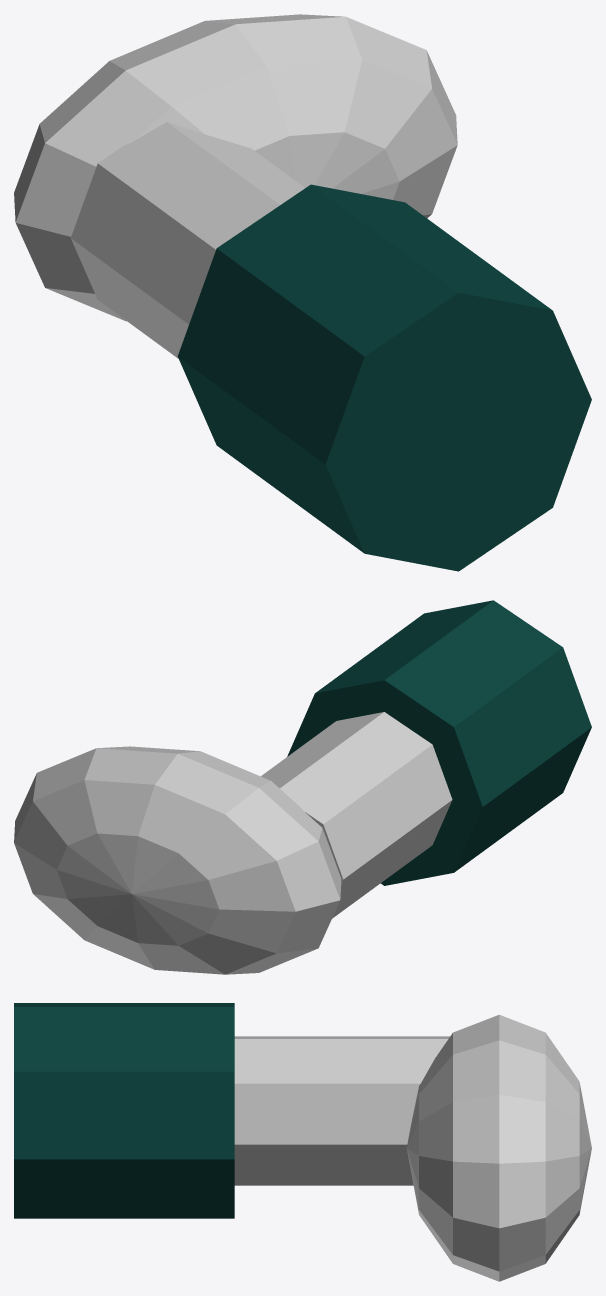
File: Resident9LeftLeg.obj
3 views of the same model, one above another, from view 1: azimuth 30°, elevation 25°; view 2: azimuth 150°, elevation 25°; view 3: azimuth 270°, elevation 25° (orthographic). The views are drawn at different scales.
Visible parts, largest first — view 1: Resident9LeftLeg; view 2: Resident9LeftLeg; view 3: Resident9LeftLeg.
Part boxes in pixels (x1,y1,x2,y2): Resident9LeftLeg: [14, 14, 591, 571]; Resident9LeftLeg: [14, 600, 591, 974]; Resident9LeftLeg: [14, 1003, 591, 1281].
Size of the model in its own units: 44.5 by 27 by 65.5.
